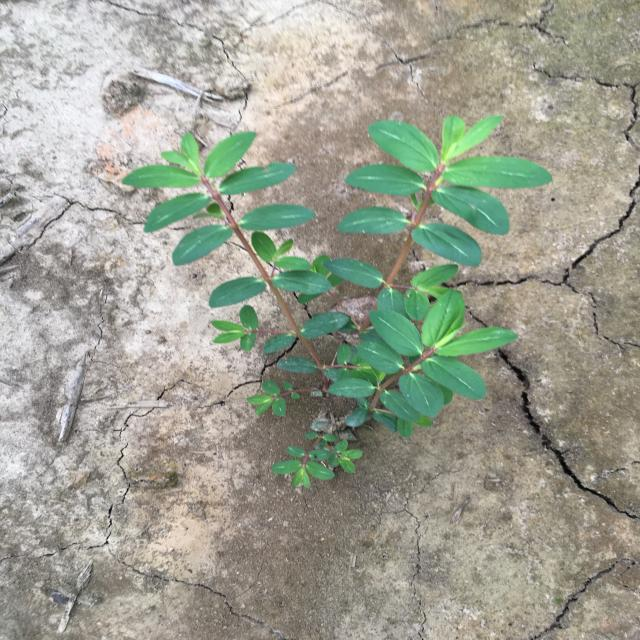SpottedSpurge: (121, 115, 554, 489)
